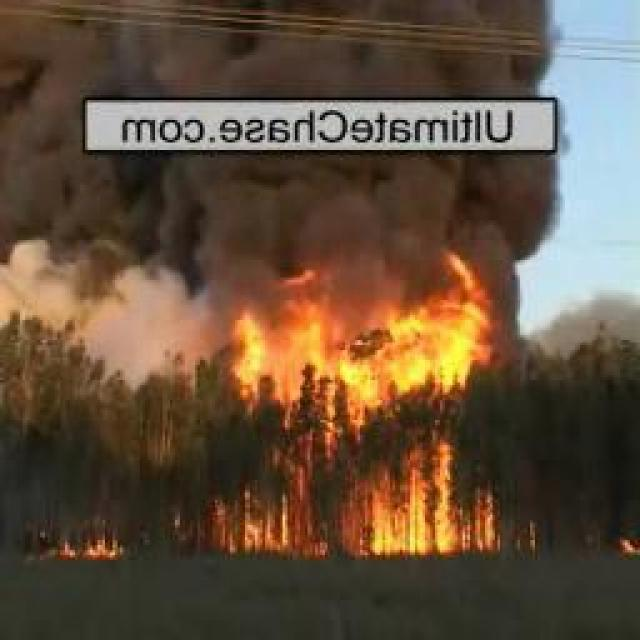Fire: (221, 255, 494, 556), (55, 525, 124, 558)
